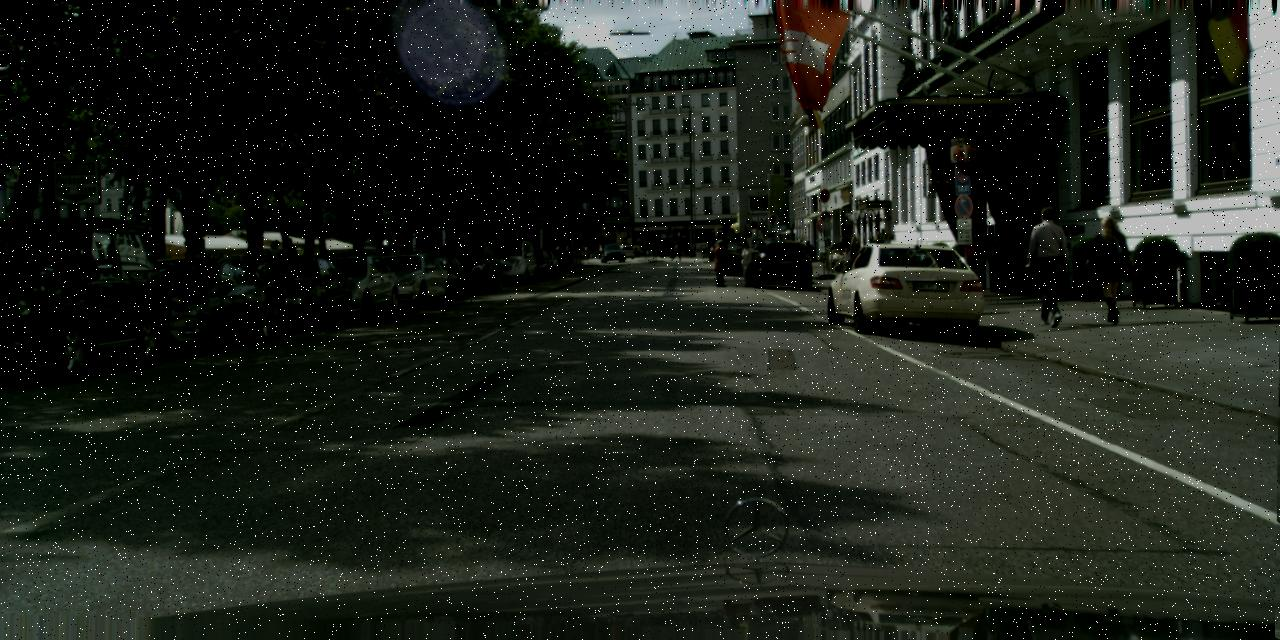ped: (1024, 206, 1074, 325), (1089, 216, 1132, 322), (956, 228, 983, 293), (264, 239, 285, 290), (710, 238, 730, 286), (280, 238, 298, 284), (737, 240, 754, 286), (846, 236, 862, 276), (829, 247, 850, 265), (774, 234, 784, 259), (803, 240, 813, 264), (557, 242, 565, 262), (671, 240, 679, 260), (635, 243, 640, 256), (632, 243, 636, 256)
